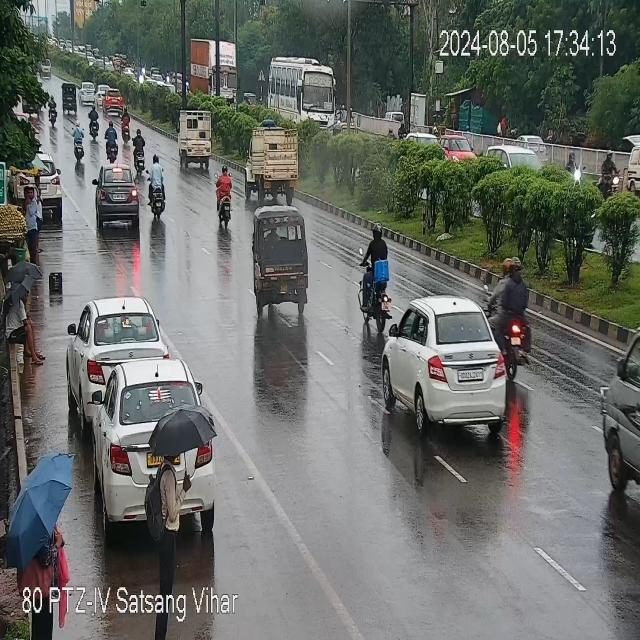2-wheelers: (346, 216, 391, 336), (488, 265, 535, 345), (145, 161, 169, 225), (211, 164, 234, 227), (131, 129, 154, 173), (102, 122, 121, 161), (72, 119, 85, 165), (569, 150, 582, 183), (90, 105, 101, 138), (48, 94, 58, 127)
auto: (252, 206, 316, 312)
bus: (258, 54, 339, 124)
car: (91, 360, 215, 532), (381, 300, 512, 438), (65, 299, 172, 429), (596, 321, 640, 493), (92, 157, 141, 244), (12, 150, 65, 223), (439, 127, 478, 160), (600, 148, 620, 200), (103, 86, 127, 117), (79, 77, 99, 107), (37, 53, 54, 80)
pedestrian: (147, 411, 213, 584), (3, 446, 70, 585), (4, 262, 42, 366), (23, 180, 45, 264)
truck: (244, 126, 307, 193), (188, 36, 239, 108), (178, 111, 217, 172)
